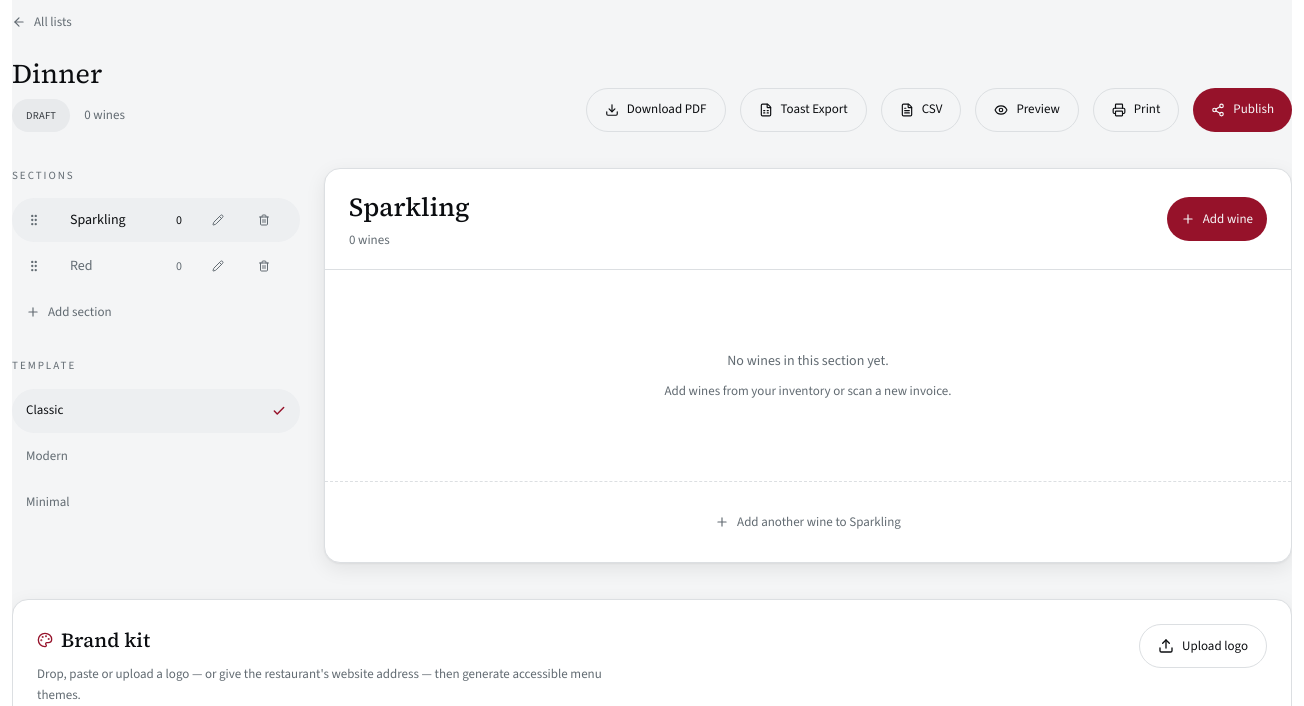
Test: reports what landed when one section of a multi-section add fails
Step 1. Click the button "Add wine" → click(1217, 219), box [1167,197,1267,241]
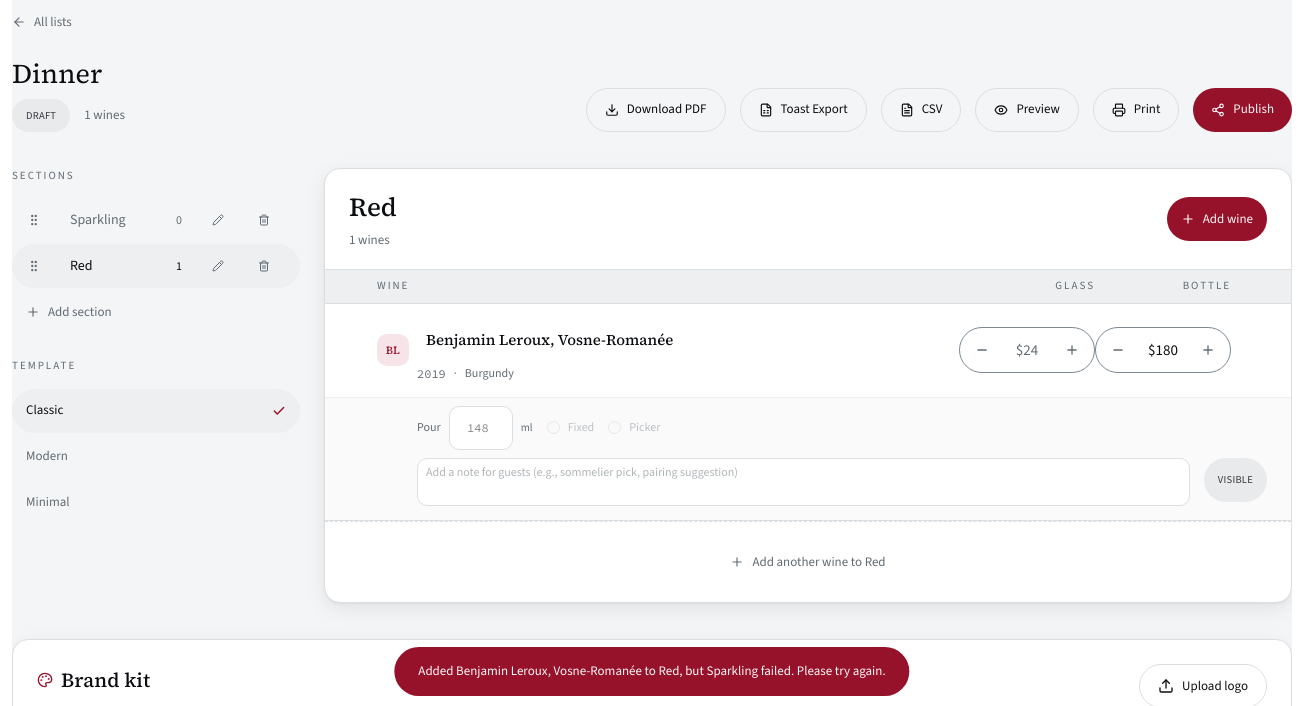
Now the text "Added Benjamin Leroux, Vosne-Romanée to Red, but Sparkling failed." is shown, box [418,662,886,679]
Now the text "Vosne-Romanée" is shown, box [417,318,682,362]
